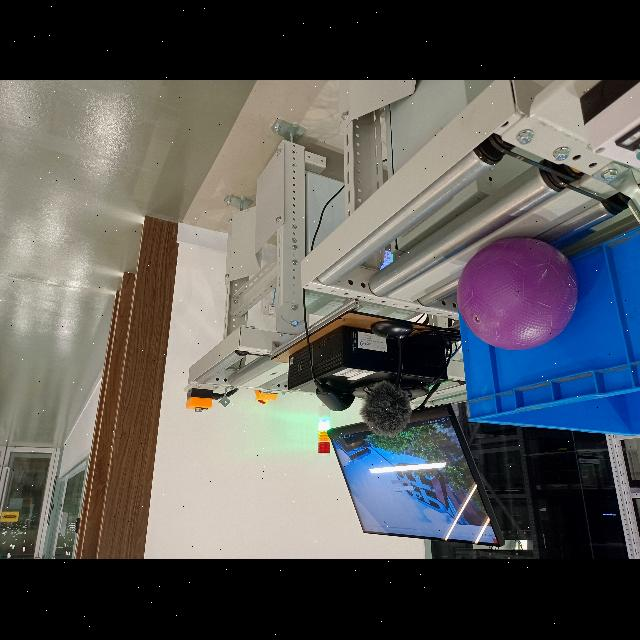P: (457, 234, 577, 350)
